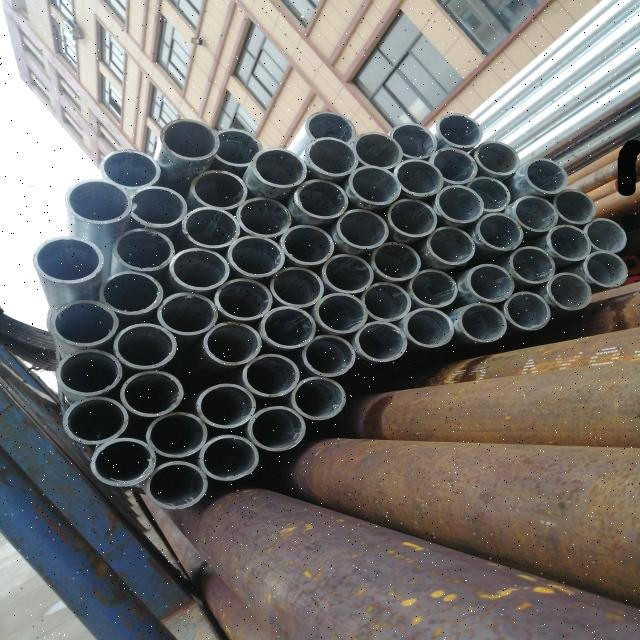pipe: (32, 234, 108, 286), (89, 436, 158, 488), (50, 298, 120, 348), (55, 346, 122, 398), (63, 396, 131, 446), (118, 369, 186, 418), (145, 460, 210, 510), (198, 432, 262, 482), (110, 226, 176, 274), (155, 290, 220, 338), (98, 270, 165, 316), (112, 323, 178, 369), (144, 409, 208, 456), (65, 180, 133, 224), (202, 322, 264, 368), (247, 406, 309, 452), (242, 352, 303, 398), (168, 246, 229, 291), (197, 384, 258, 429), (213, 278, 275, 322), (158, 118, 222, 160), (260, 305, 318, 351), (98, 148, 164, 188), (128, 184, 188, 228), (181, 204, 240, 248), (226, 236, 286, 279), (292, 376, 350, 420), (294, 177, 350, 221), (301, 334, 357, 378), (320, 253, 378, 295), (426, 224, 480, 268), (354, 321, 408, 365), (304, 136, 360, 178), (252, 148, 308, 190), (404, 306, 456, 351), (235, 196, 292, 237), (190, 169, 248, 209), (347, 165, 403, 206), (315, 292, 369, 334), (270, 266, 324, 308), (458, 302, 508, 346), (386, 198, 440, 238), (282, 224, 336, 264), (504, 289, 554, 332), (370, 241, 422, 282), (476, 210, 526, 252), (434, 184, 486, 224), (213, 127, 265, 167), (467, 262, 517, 303), (508, 244, 558, 284), (410, 268, 460, 308), (362, 282, 412, 322), (394, 158, 446, 196), (352, 130, 404, 168), (390, 121, 439, 161), (430, 144, 480, 183), (512, 194, 562, 233), (548, 270, 594, 312), (466, 173, 514, 213), (546, 224, 594, 264), (436, 111, 484, 148), (303, 111, 358, 143), (524, 156, 570, 194), (584, 250, 630, 288), (474, 140, 521, 176), (582, 218, 628, 254), (554, 188, 598, 224)
